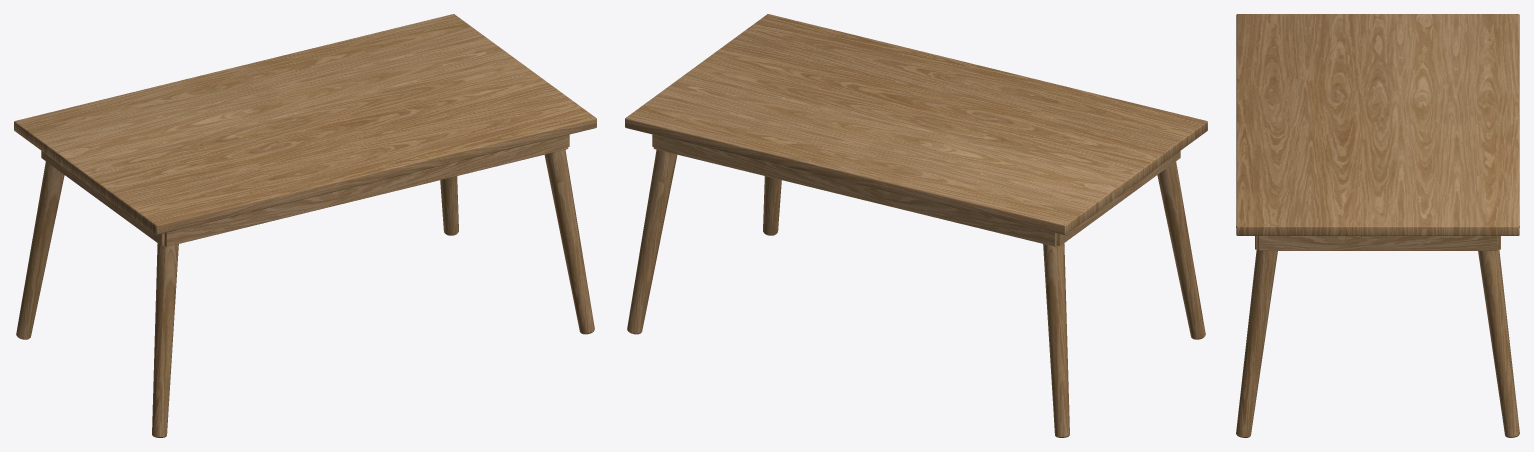
Rendered from mesa_comedor_roble_160.glb.
The picture shows the model from 3 angles, left to right: view 1: azimuth 30°, elevation 25°; view 2: azimuth 150°, elevation 25°; view 3: azimuth 270°, elevation 25°; orthographic projection.
Visible parts, largest first — view 1: mesa_comedor_roble_160; view 2: mesa_comedor_roble_160; view 3: mesa_comedor_roble_160.
Part boxes in pixels (box(x1,y1,x2,y2)): mesa_comedor_roble_160: box(14, 14, 596, 437); mesa_comedor_roble_160: box(625, 14, 1207, 437); mesa_comedor_roble_160: box(1236, 14, 1519, 437).
Size of the model in its own units: 1.6 by 0.7482 by 0.9022.
Materials: 1 (1 with a texture image).
